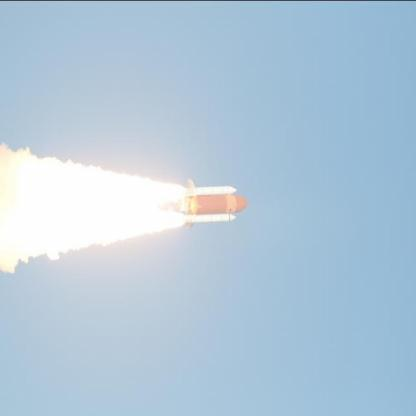MIL_TBM: (186, 212, 242, 224), (186, 185, 238, 197)
